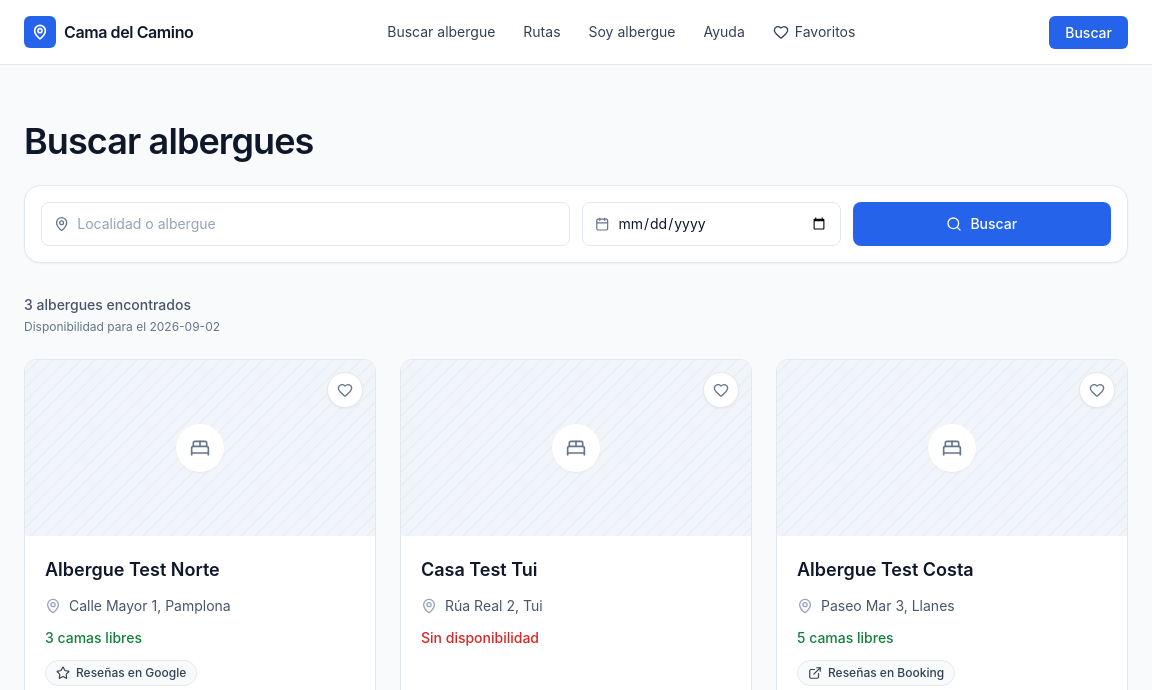
Test: smoke: las páginas renderizan sin crashear › Buscar — el filtro por localidad filtra de verdad
Type "Tui" into the field with test id "search-location".
click(317, 224); type("Tui")  # box [77,214,557,234]
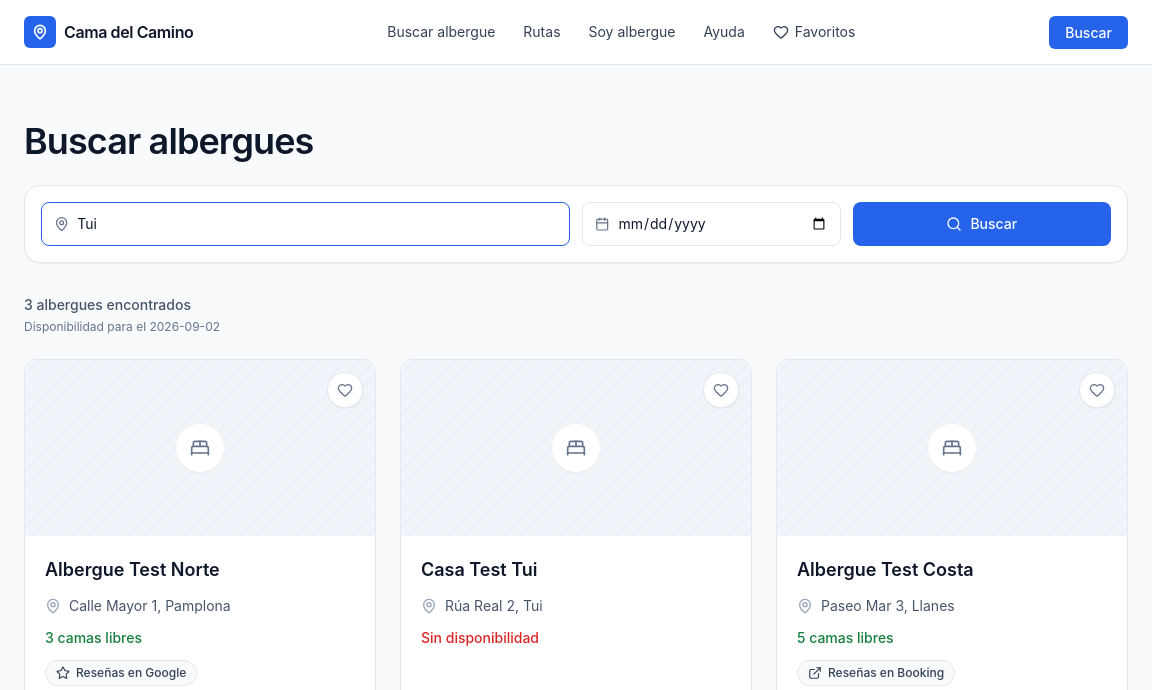
Click the button with test id "search-submit".
click(982, 224)  # box [852,202,1111,246]
(page scrolled)
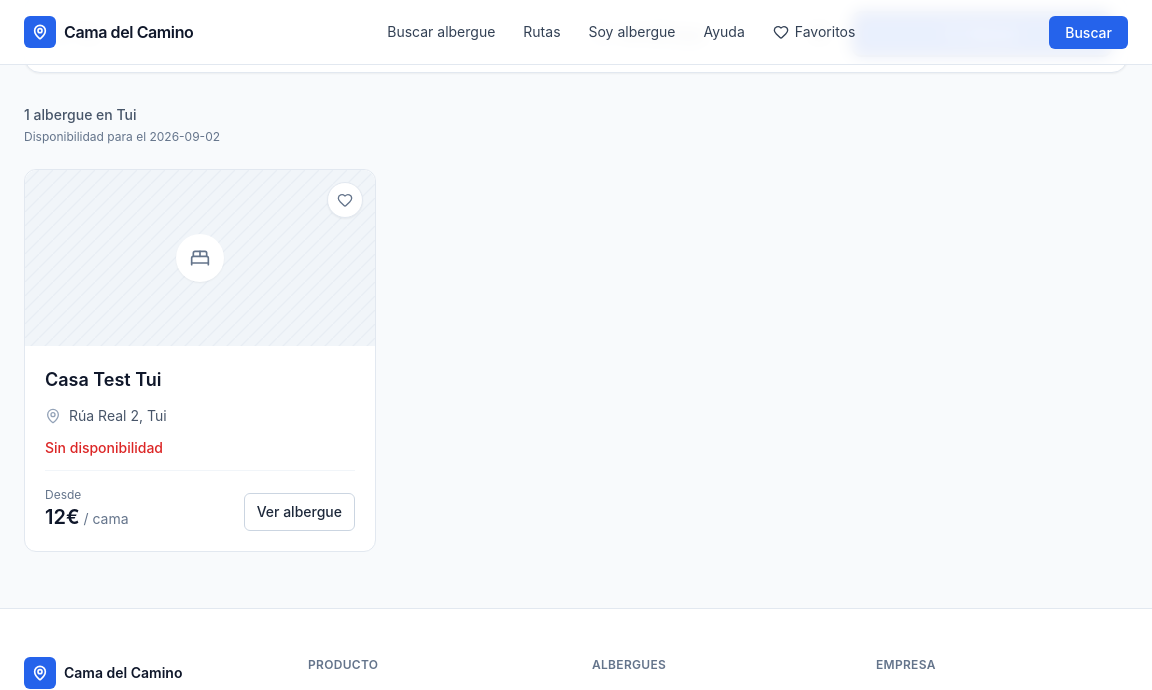
Check: the element with test id "hostel-card-test-tui" is shown, box [24,169,376,552]
Check: the text with test id "search-results-count" reads "1 albergue en Tui", box [24,106,136,123]
